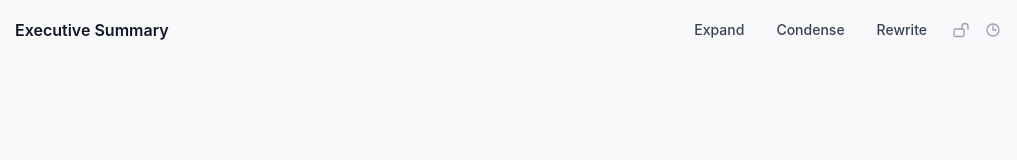
Test: SectionActionToolbar › clicking Condense opens inline input with correct placeholder
Click the button "Condense" at (810, 30), box [764,8,857,52]
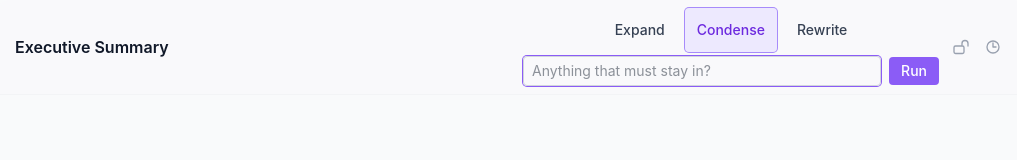
Check: the field with placeholder "Anything that must stay in?" is shown, box [523,56,881,86]
